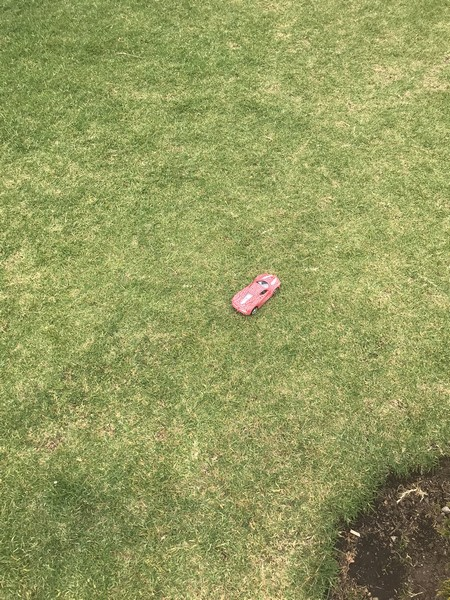RC: (231, 272, 282, 317)
